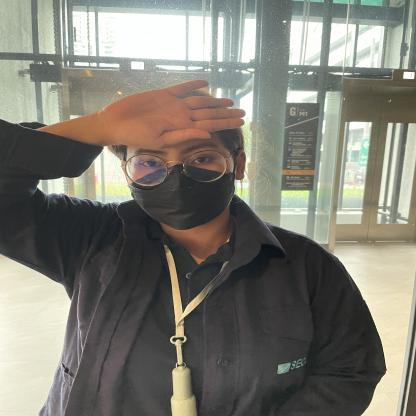Sick: (73, 64, 275, 156)
